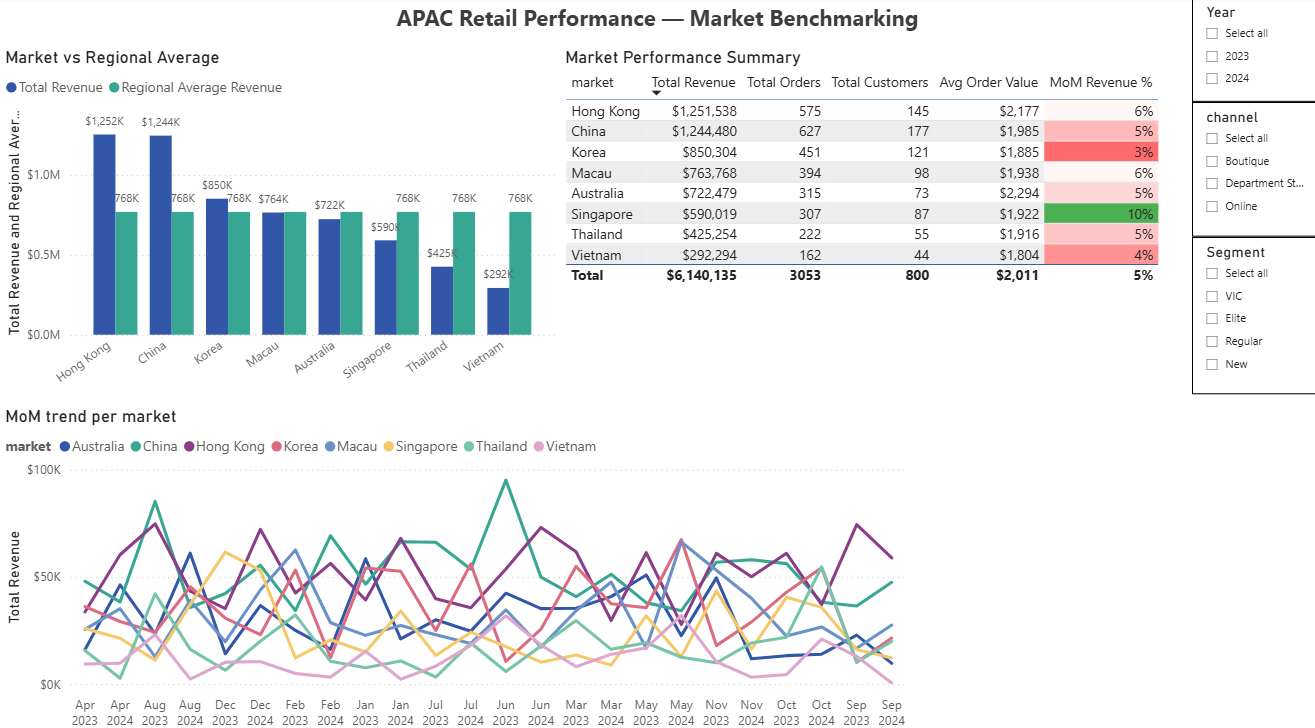

The dashboard page shown, as its layout file describes it:
{"tool":"powerbi","page":{"name":"Market Benchmarking","canvas":[1280,720],"ordinal":2},"visuals":[{"type":"clusteredColumnChart","title":" Market vs Regional Average","fields":{"Category":["retail_transactions.market"],"Y":["retail_transactions.Total Revenue","retail_transactions.Avg Market Revenue"]},"box":[0,48.6,544.7,349.2],"z":0},{"type":"tableEx","title":"Market Performance Summary","fields":{"Values":["retail_transactions.market","retail_transactions.Total Revenue","retail_transactions.Total Orders","retail_transactions.Total Customers","retail_transactions.Avg Order Value","retail_transactions.MoM Revenue %"]},"box":[544.7,48.6,601.1,349.2],"z":1000},{"type":"lineChart","title":"MoM trend per market","fields":{"Category":["Date.Month Name"],"Y":["retail_transactions.Total Revenue"],"Series":["retail_transactions.market"]},"box":[0,397.8,888,321.9],"z":2000},{"type":"textbox","box":[353.1,0,572.9,45.7],"z":5000},{"type":"slicer","fields":{"Values":["Date.Year"]},"box":[1159.4,0,120.6,102.1],"z":5001},{"type":"slicer","fields":{"Values":["retail_transactions.channel"]},"box":[1159.4,102.1,120.6,131.3],"z":5002},{"type":"slicer","fields":{"Values":["Segment Order.Segment"]},"box":[1159.4,233.4,120.6,152.7],"z":5003}]}

Visuals, with their boxes in screenshot pixels (x1, y1, x2, y2), scaled from the page's 1280x720 canvas onto the 1315x728 screenshot:
" Market vs Regional Average" clusteredColumnChart: locate(0, 49, 560, 402)
"Market Performance Summary" tableEx: locate(560, 49, 1177, 402)
"MoM trend per market" lineChart: locate(0, 402, 912, 727)
textbox: locate(363, 0, 951, 46)
slicer - Date.Year: locate(1191, 0, 1314, 103)
slicer - retail_transactions.channel: locate(1191, 103, 1314, 236)
slicer - Segment Order.Segment: locate(1191, 236, 1314, 390)
